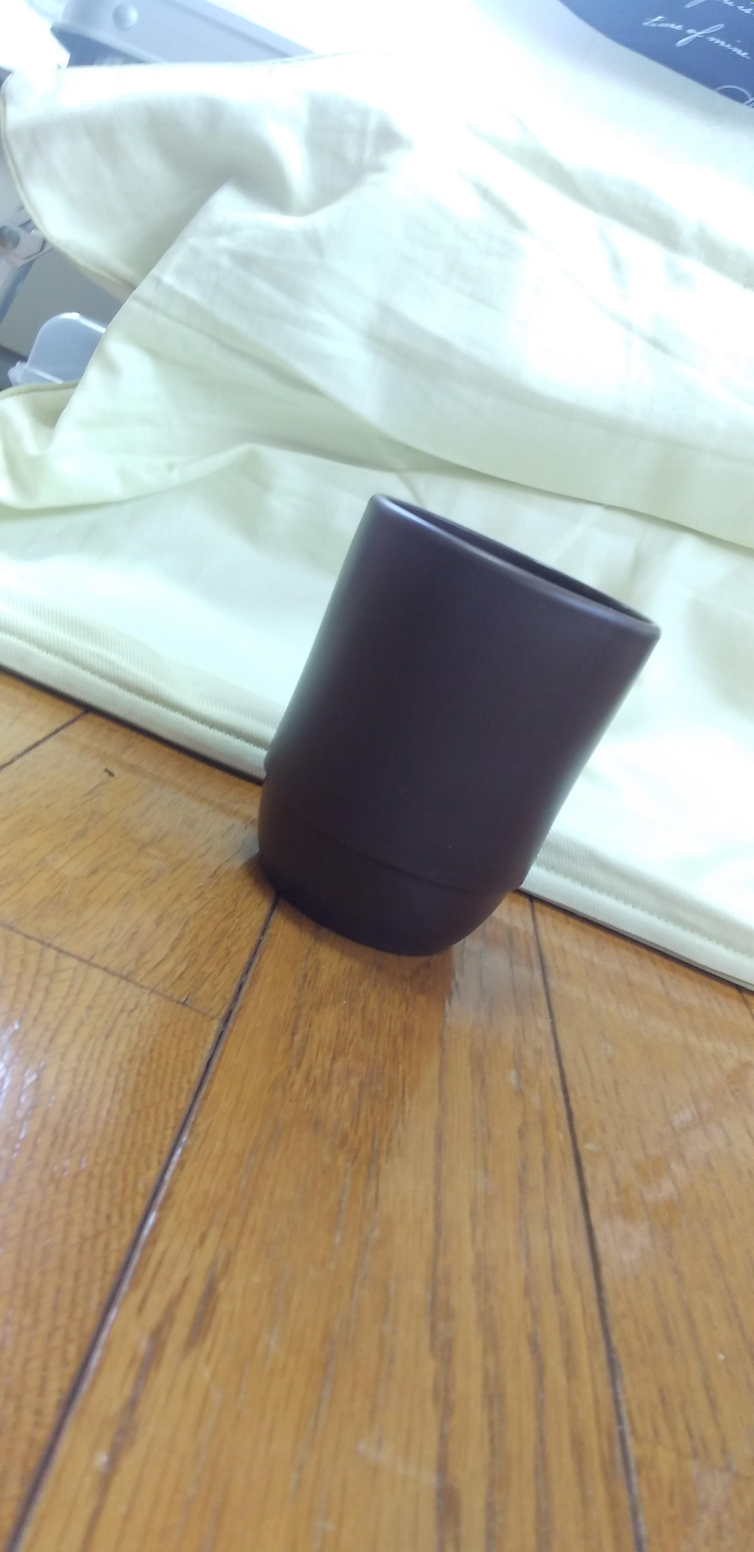mug-real100-3d100: (258, 496, 660, 956)
